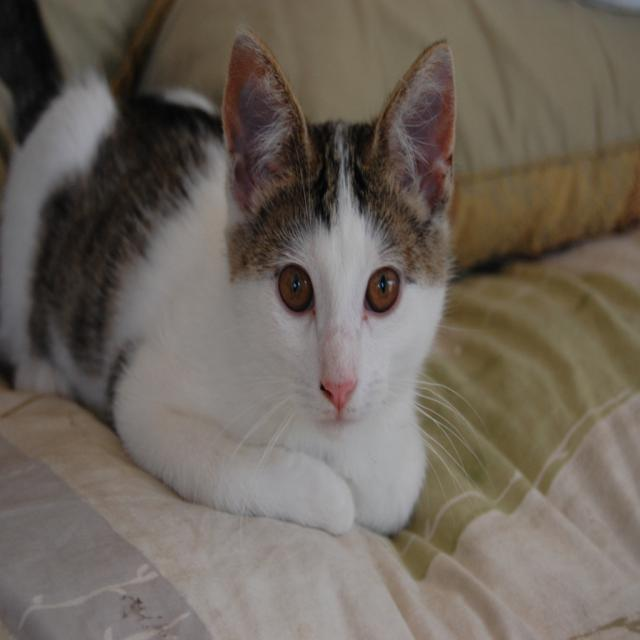Cat: (0, 21, 499, 574)
